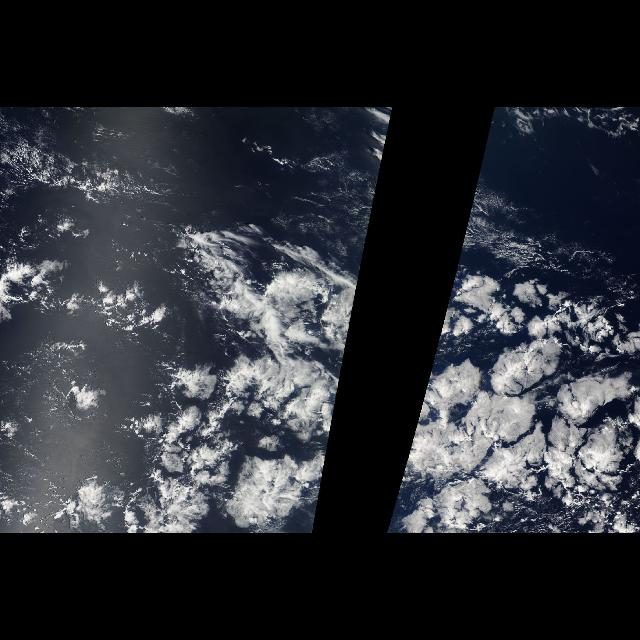Flower: (112, 228, 368, 534), (386, 238, 640, 534)
